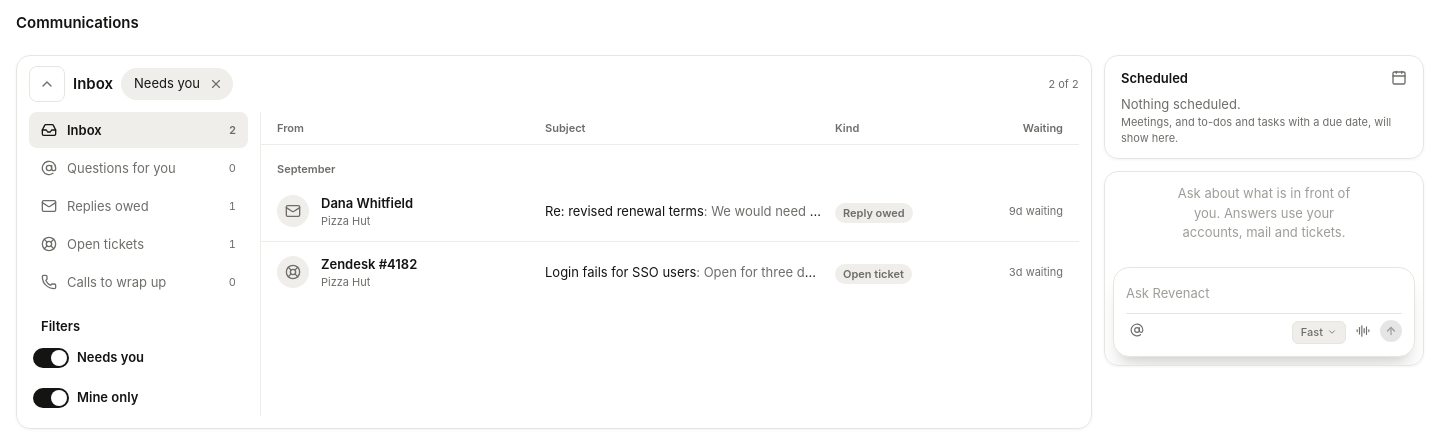
Scenario: CommunicationsPage › a folder narrows the inbox to one kind
The image size is (1440, 446).
Expected: the button "Dana Whitfield" is shown, x1=321 y1=193 x2=533 y2=213
Click the button "Open tickets 1": {"x": 138, "y": 244} x1=29 y1=226 x2=248 y2=262
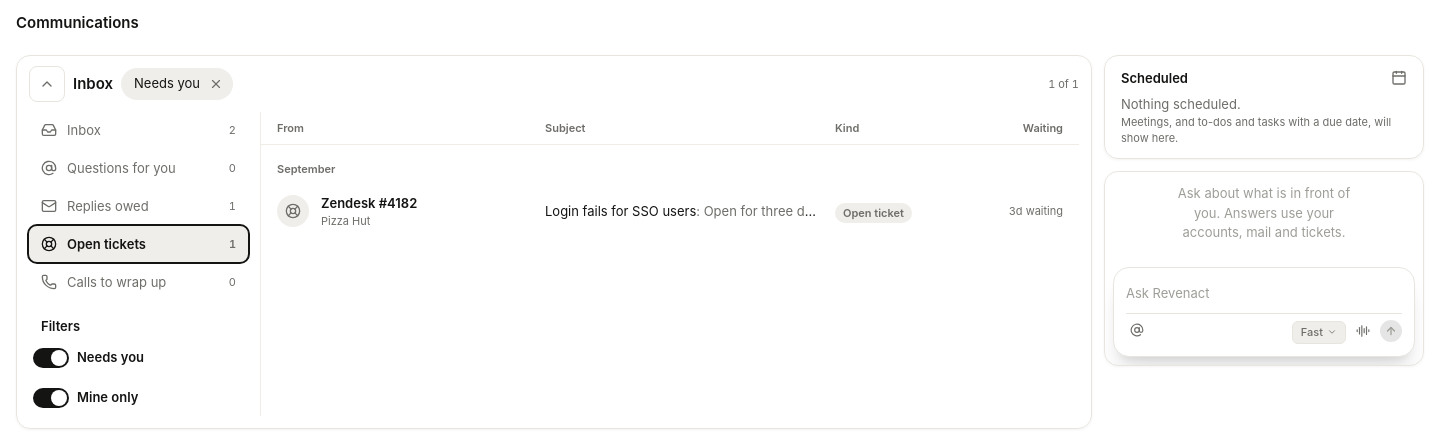
Expected: the button "Zendesk #4182" is shown, x1=321 y1=193 x2=533 y2=213
Expected: the button "Dana Whitfield" is gone
